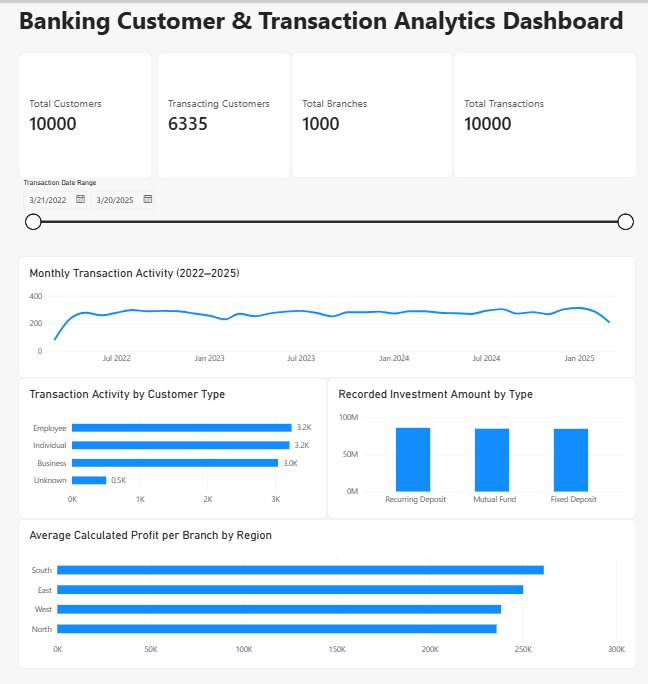

What the dashboard file says about the page in this screenshot:
{"tool":"powerbi","page":{"name":"Page 1","canvas":[1920,1080],"ordinal":0},"visuals":[{"type":"cardVisual","fields":{"Data":["analytics branches_clean.Total Transactions"]},"box":[982.5,77.5,286,196],"z":1000},{"type":"cardVisual","fields":{"Data":["analytics branches_clean.Total Branches"]},"box":[730,77.5,252,196],"z":2000},{"type":"lineChart","title":"Monthly Transaction Activity (2022–2025)","fields":{"Category":["analytics transactions_clean.transaction_month_start"],"Y":["analytics branches_clean.Total Transactions"]},"box":[302.5,397.5,965,190],"z":3000},{"type":"clusteredBarChart","title":"Transaction Activity by Customer Type","fields":{"Category":["analytics customers_clean.customer_type"],"Y":["analytics branches_clean.Total Transactions"]},"box":[302.5,587.5,482.5,220],"z":4000},{"type":"clusteredColumnChart","title":"Recorded Investment Amount by Type","fields":{"Category":["analytics transactions_clean.investment_type"],"Y":["analytics branches_clean.Total Recorded Investment"]},"box":[785,587.5,482.5,220],"z":5000},{"type":"clusteredBarChart","title":"Average Calculated Profit per Branch by Region","fields":{"Category":["analytics branches_clean.region"],"Y":["analytics branches_clean.Average Calculated Profit per Branch"]},"box":[302.5,807.5,966,234],"z":5001},{"type":"slicer","title":"Transaction Date Range","fields":{"Values":["analytics transactions_clean.transaction_date"]},"box":[302.5,275,966,122],"z":5002},{"type":"cardVisual","fields":{"Data":["analytics branches_clean.Total Customers","analytics branches_clean.Transacting Customers"]},"box":[302.5,77.5,427.8,197.8],"z":5003},{"type":"textbox","box":[302.5,0,965,130],"z":5005},{"type":"textbox","box":[0,121.1,251.1,152.2],"z":5006}]}

Visuals, with their boxes on the page's 1920x1080 design canvas (x1, y1, x2, y2). These are canvas units, not pixel positions in the 648x684 screenshot, which may show the page scaled, cropped or inside an application window:
cardVisual - analytics branches_clean.Total Transactions: (left=982, top=78, right=1268, bottom=274)
cardVisual - analytics branches_clean.Total Branches: (left=730, top=78, right=982, bottom=274)
"Monthly Transaction Activity (2022–2025)" lineChart: (left=302, top=398, right=1268, bottom=588)
"Transaction Activity by Customer Type" clusteredBarChart: (left=302, top=588, right=785, bottom=808)
"Recorded Investment Amount by Type" clusteredColumnChart: (left=785, top=588, right=1268, bottom=808)
"Average Calculated Profit per Branch by Region" clusteredBarChart: (left=302, top=808, right=1268, bottom=1042)
"Transaction Date Range" slicer: (left=302, top=275, right=1268, bottom=397)
cardVisual - analytics branches_clean.Total Customers x analytics branches_clean.Transacting Customers: (left=302, top=78, right=730, bottom=275)
textbox: (left=302, top=0, right=1268, bottom=130)
textbox: (left=0, top=121, right=251, bottom=273)
